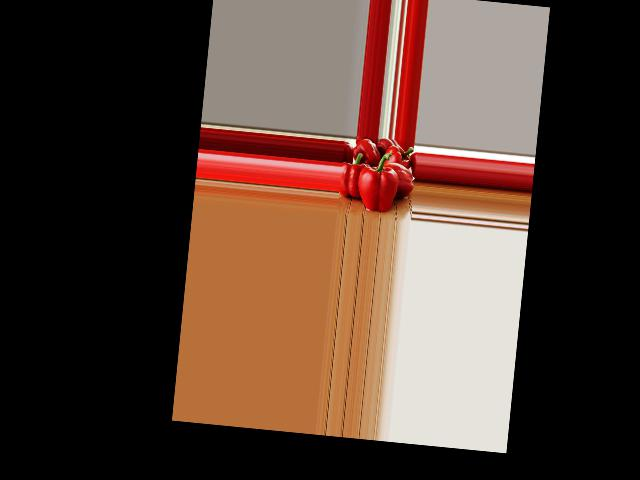bell_pepper: (383, 143, 415, 170)
